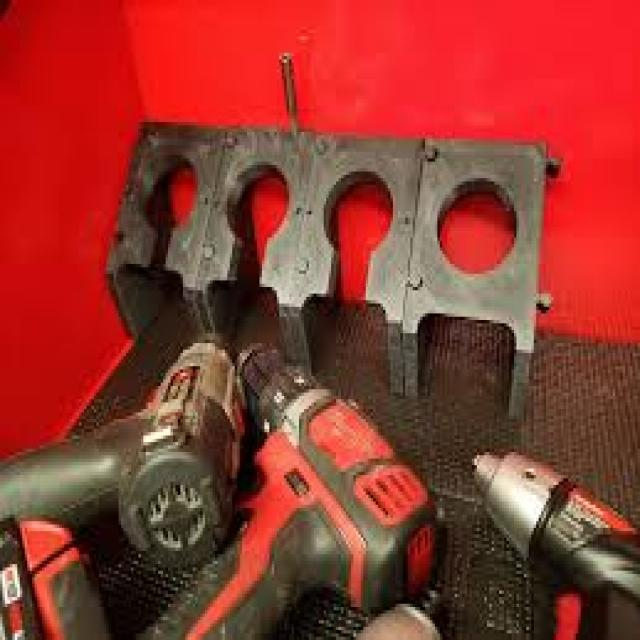driller: (183, 330, 445, 640), (0, 327, 237, 571), (474, 452, 640, 640)
